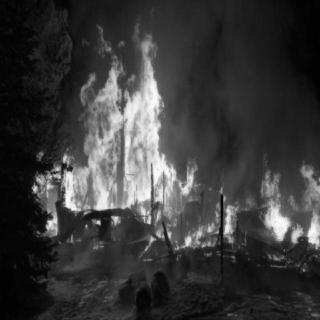Fire: (38, 19, 190, 258), (181, 153, 319, 263)
Smoke: (163, 16, 305, 142)
